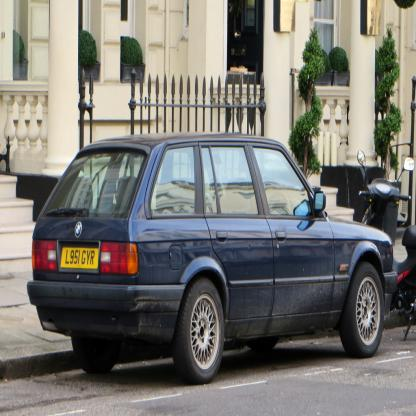Car: (27, 132, 398, 385)
